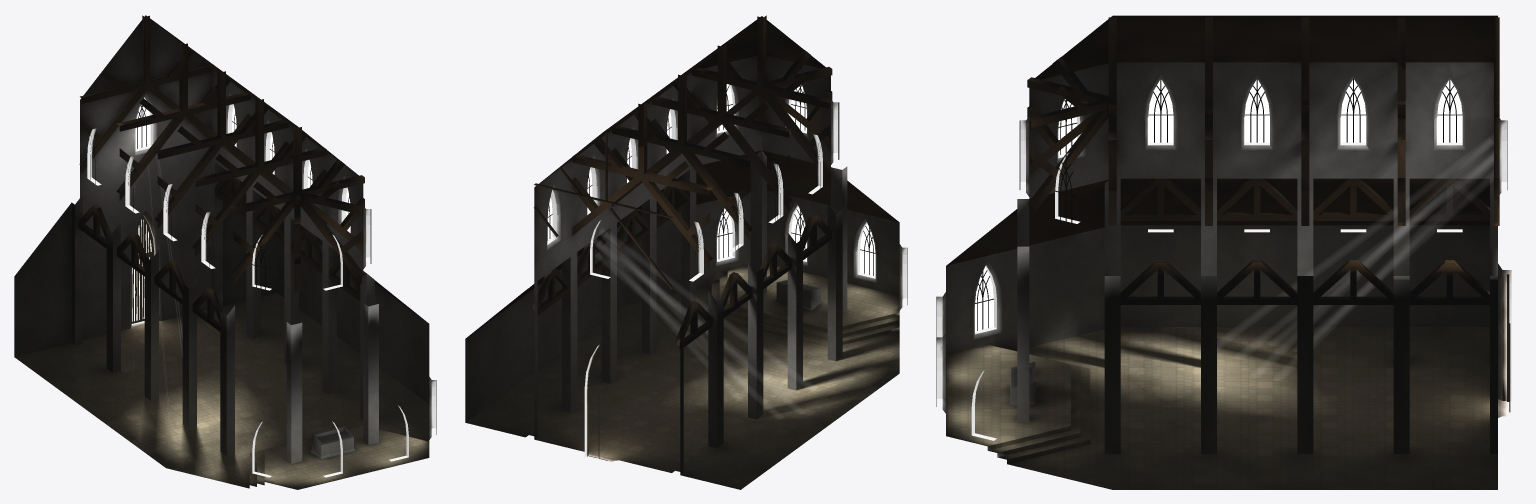
File: temple_room.glb
The picture shows the model from 3 angles, left to right: view 1: azimuth 30°, elevation 25°; view 2: azimuth 150°, elevation 25°; view 3: azimuth 270°, elevation 25°; orthographic projection. The views are drawn at different scales.
Parts seen in each view (by area): view 1: BUILDING, vigueria, ventanas, door_door_0; view 2: BUILDING, vigueria, ventanas, sunbeams; view 3: BUILDING, vigueria, ventanas, sunbeams.
Part boxes in pixels (x1,y1,x2,y2): BUILDING: (14,15,436,489); vigueria: (78,15,364,331); ventanas: (132,105,350,321); door_door_0: (131,215,154,323); BUILDING: (465,16,907,489); vigueria: (533,15,832,350); ventanas: (547,84,875,276); sunbeams: (597,234,747,388); BUILDING: (936,15,1511,489); vigueria: (1027,17,1499,304); ventanas: (975,79,1462,331); sunbeams: (1326,140,1502,327).
Size of the model in its own units: 12 by 15.71 by 18.23.
6 materials, 3 textured.
